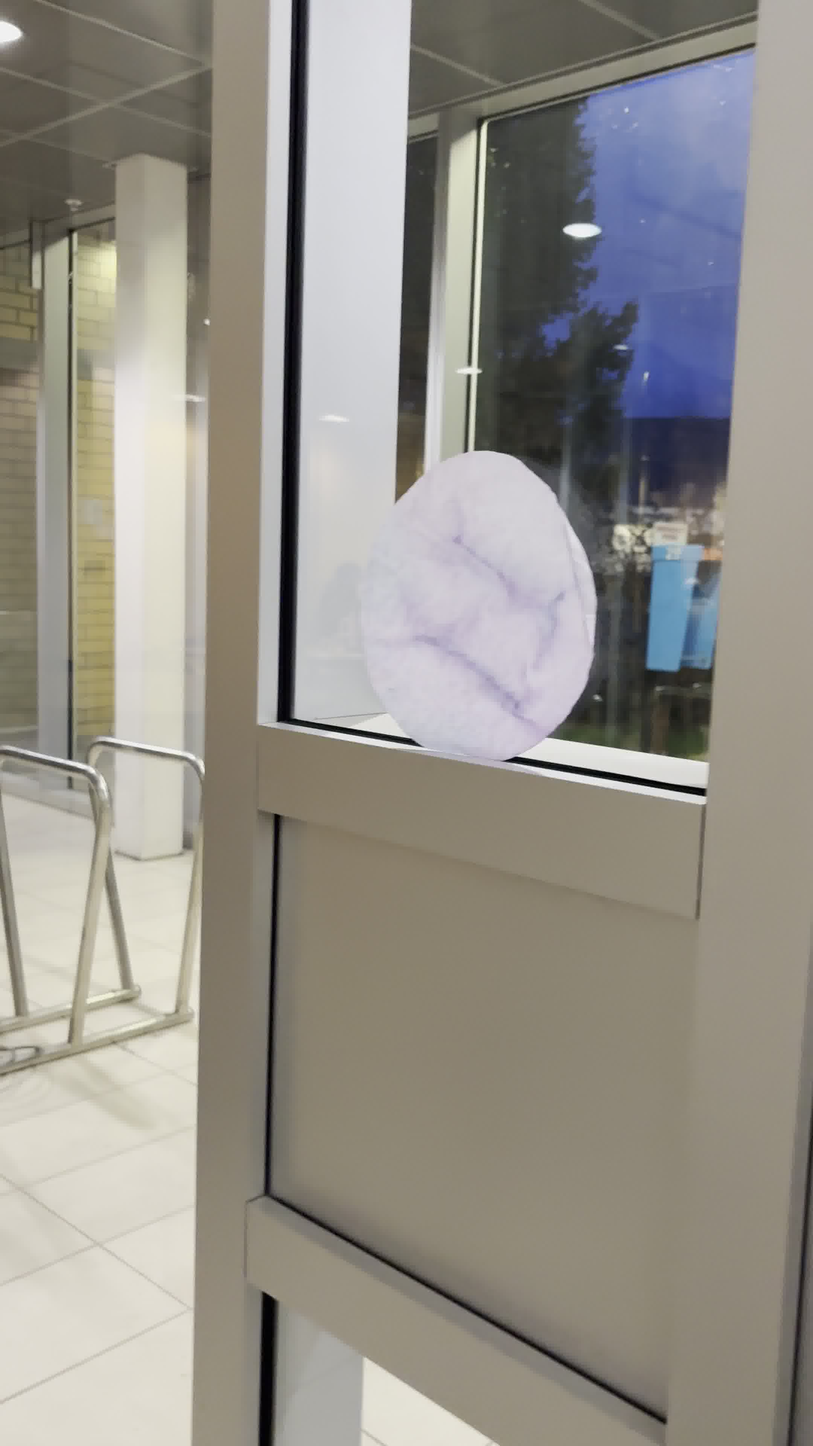Target: (360, 448, 600, 763)
